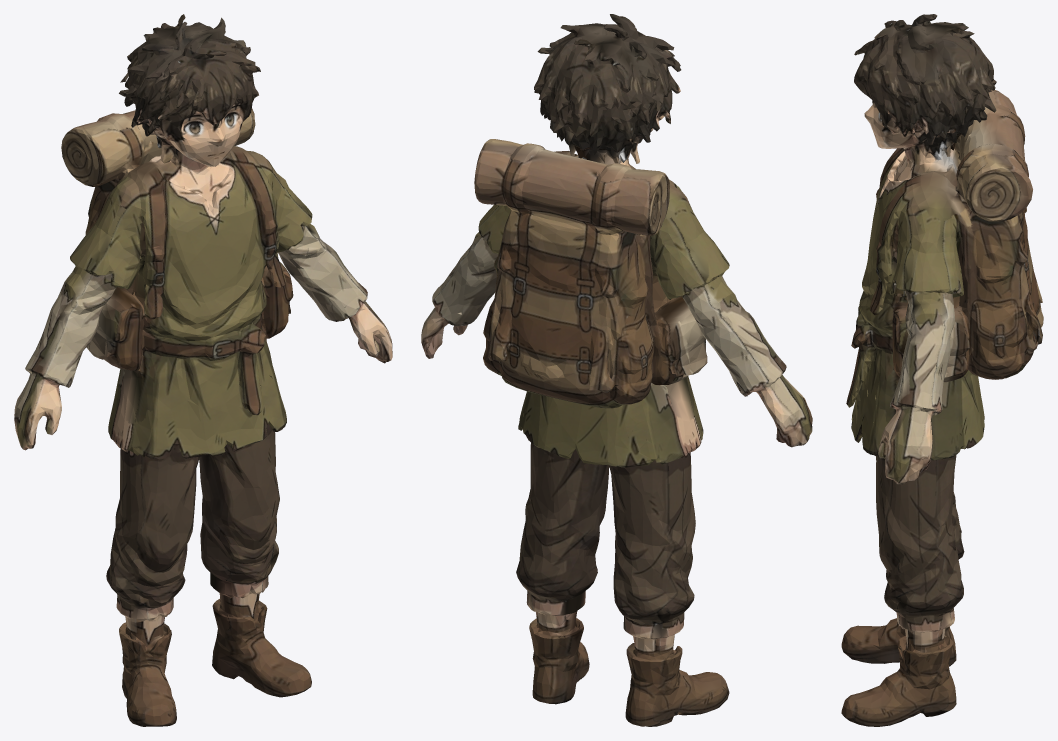
File: ren_pintado.glb
3 views of the same model, side by side, from view 1: azimuth 30°, elevation 25°; view 2: azimuth 150°, elevation 25°; view 3: azimuth 270°, elevation 25° (orthographic). The views are drawn at different scales.
Parts seen in each view (by area): view 1: geometry_0; view 2: geometry_0; view 3: geometry_0.
Part boxes in pixels (x1,y1,x2,y2): geometry_0: (14, 14, 392, 726); geometry_0: (421, 14, 812, 726); geometry_0: (841, 14, 1043, 726).
Bounding box in the file's own units: 0.966 × 1.65 × 0.4522.
Materials: 1 (1 with a texture image).
